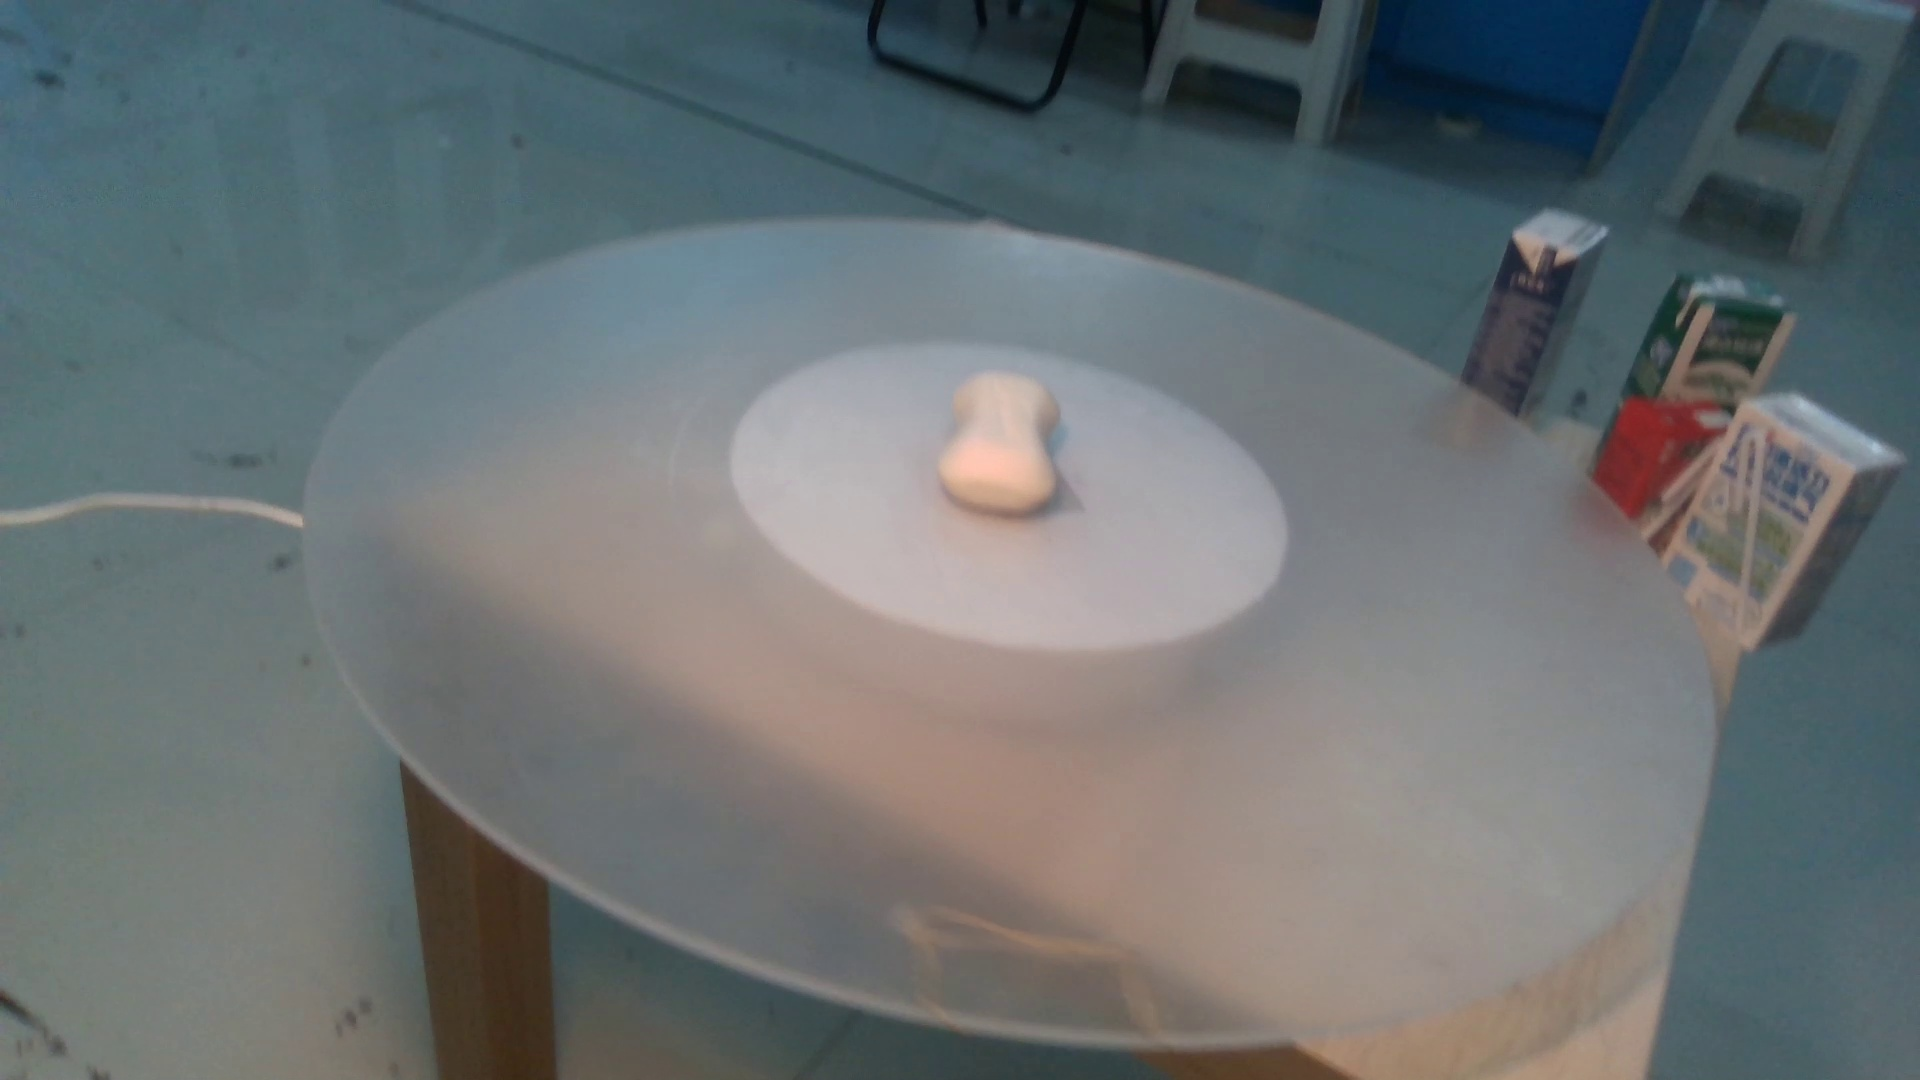CA003_1: (923, 361, 1080, 518)
